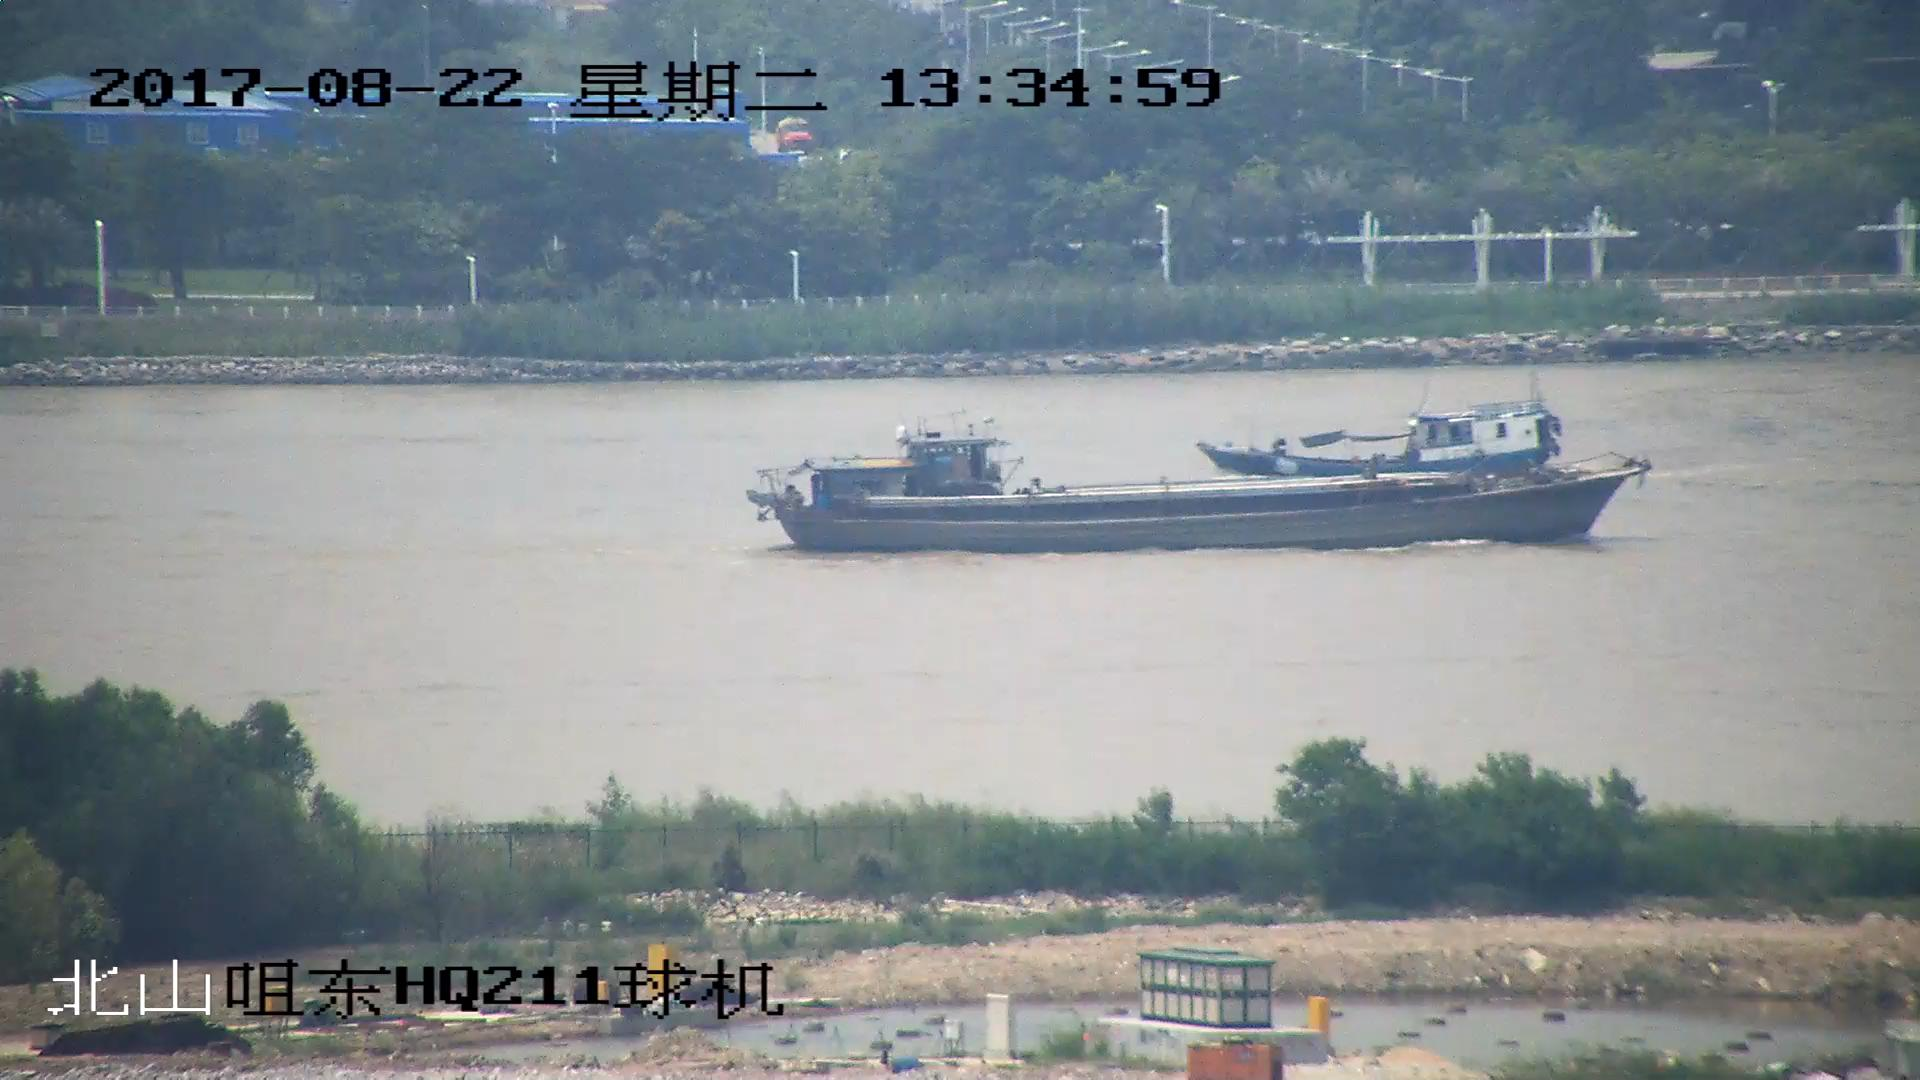bulk cargo carrier: (751, 425, 1657, 550)
fishing boat: (1201, 393, 1557, 478)
